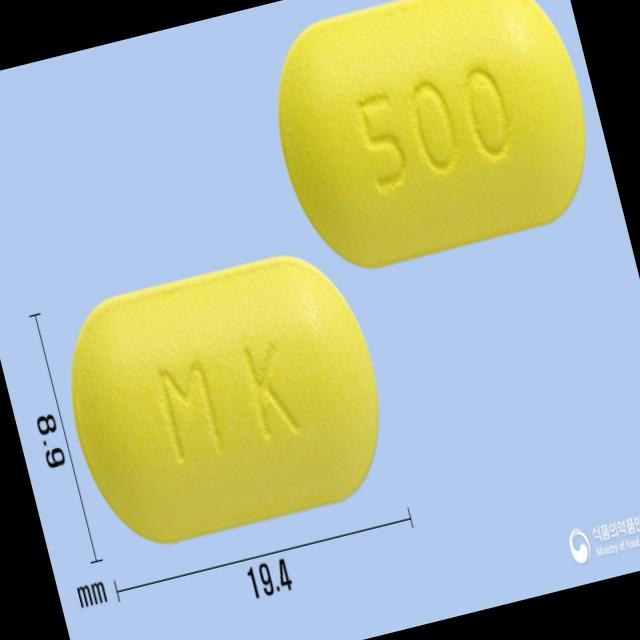Craycin: (46, 236, 404, 558), (255, 0, 611, 280)
